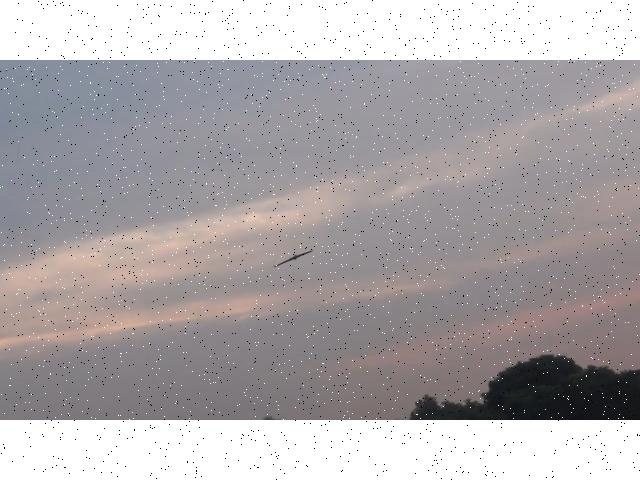Anti-Drone: (274, 250, 312, 266)
